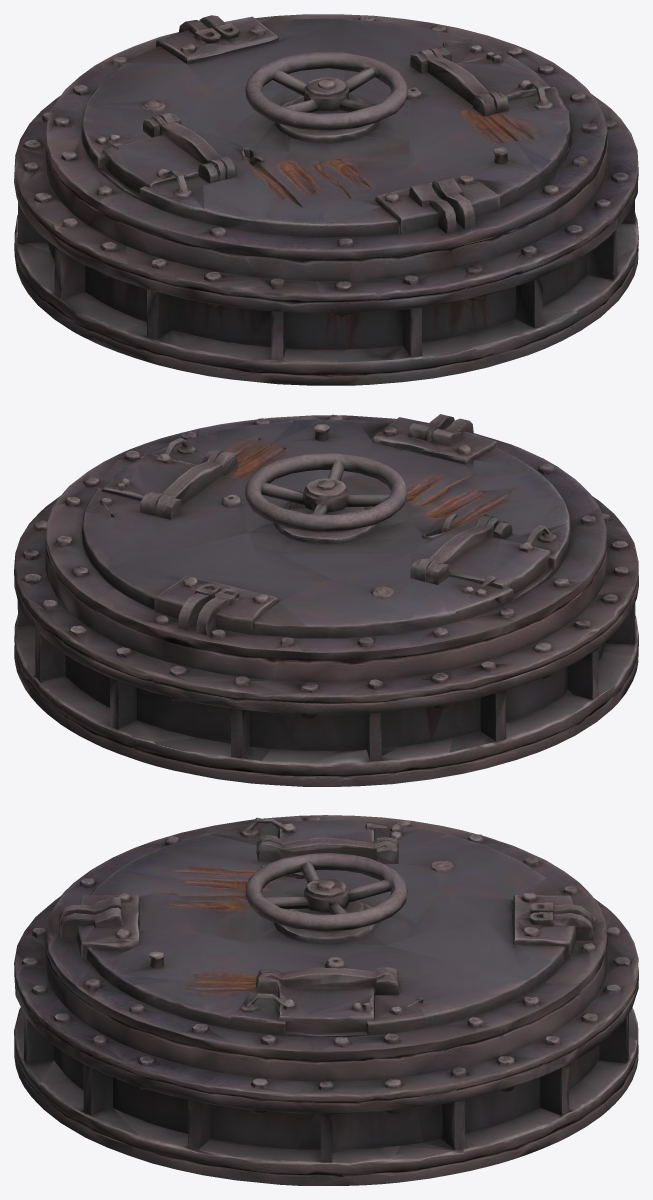
The model's file is hatch_bunker_lyuk_s_kolesom_idle.glb.
3 renders of one model, top to bottom at view 1: azimuth 30°, elevation 25°; view 2: azimuth 150°, elevation 25°; view 3: azimuth 270°, elevation 25°, orthographic.
Parts seen in each view (by area): view 1: tripo_node_810deba5-da01-4819-a83b-41211d7b6654; view 2: tripo_node_810deba5-da01-4819-a83b-41211d7b6654; view 3: tripo_node_810deba5-da01-4819-a83b-41211d7b6654.
Part boxes in pixels (box(x1,y1,x2,y2)): tripo_node_810deba5-da01-4819-a83b-41211d7b6654: box(14, 14, 638, 385); tripo_node_810deba5-da01-4819-a83b-41211d7b6654: box(14, 414, 638, 786); tripo_node_810deba5-da01-4819-a83b-41211d7b6654: box(14, 815, 638, 1185).
Bounding box in the file's own units: 1 × 0.3029 × 1.
1 material, 1 textured.
